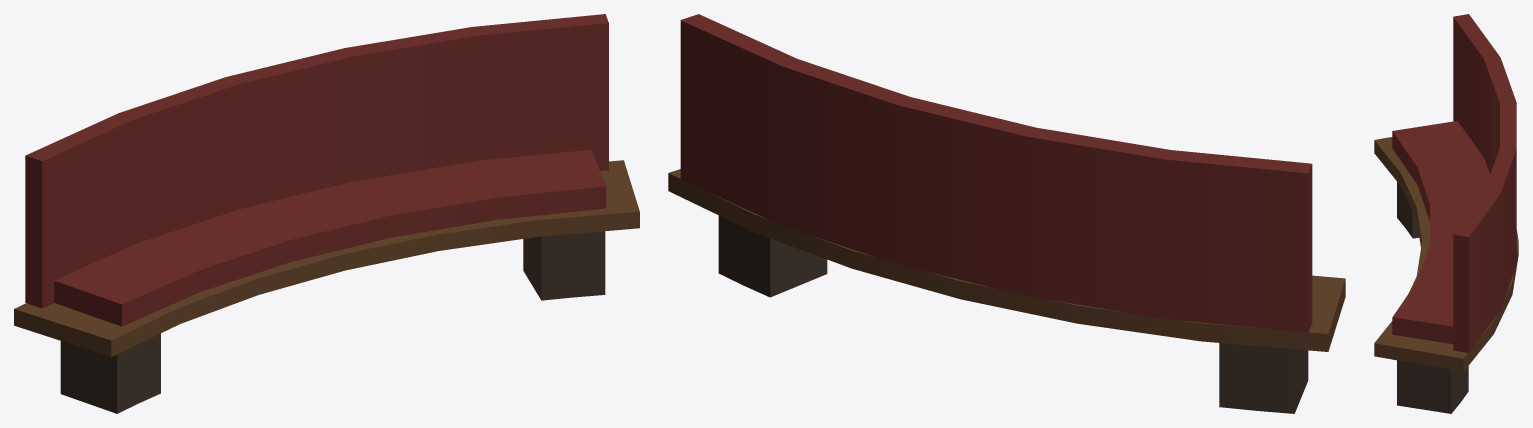
Rendered from curve_bench.glb.
3 renders of one model, left to right at view 1: azimuth 30°, elevation 25°; view 2: azimuth 150°, elevation 25°; view 3: azimuth 270°, elevation 25°, orthographic. The views are drawn at different scales.
Parts seen in each view (by area): view 1: sw5e_int_curve_bench; view 2: sw5e_int_curve_bench; view 3: sw5e_int_curve_bench.
Part boxes in pixels (<box>): sw5e_int_curve_bench: <box>14,14,639,413</box>; sw5e_int_curve_bench: <box>668,14,1345,413</box>; sw5e_int_curve_bench: <box>1374,14,1518,413</box>.
Size of the model in its own units: 2.3 by 0.85 by 0.5979.
